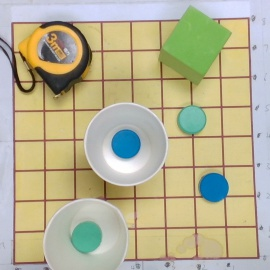blue: (199, 173, 229, 203)
cup_blue: (82, 102, 170, 189)
cup_green: (43, 195, 133, 270)
green: (177, 106, 207, 135)
